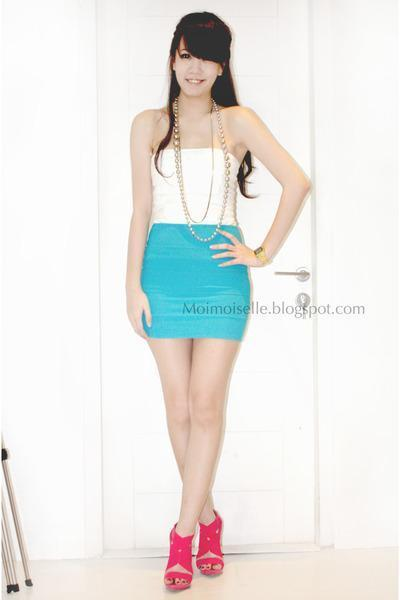shirt: (152, 146, 254, 227)
shoe: (164, 516, 227, 593)
skirt: (140, 223, 249, 340)
